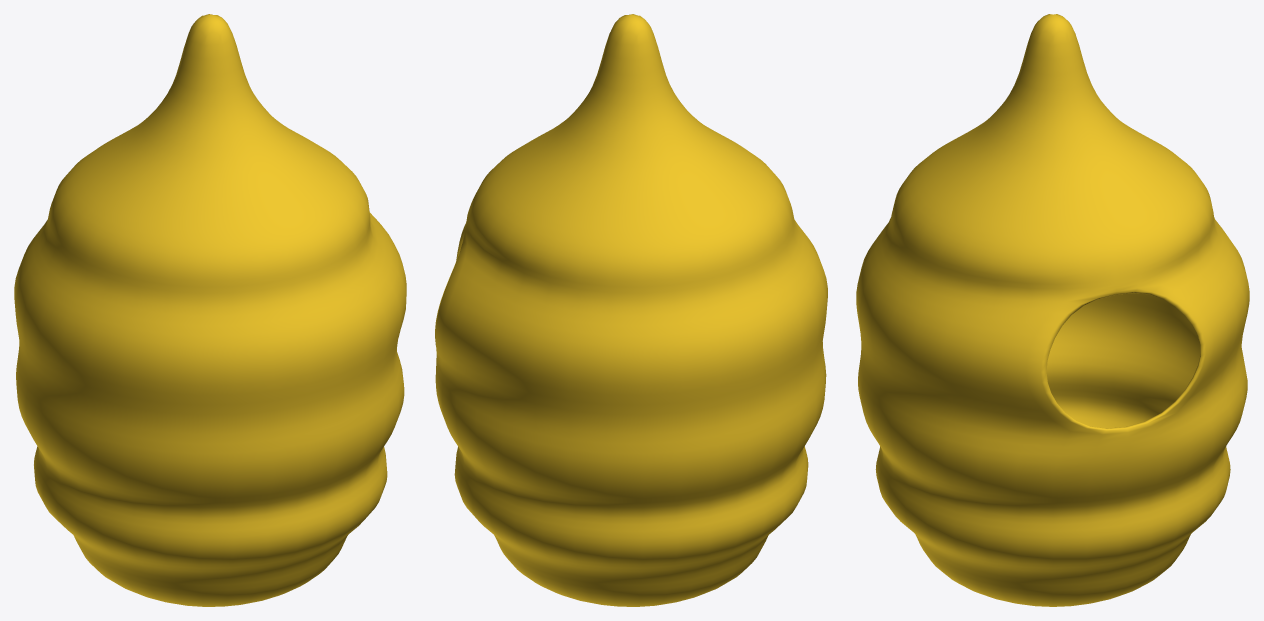
File: PdV_Model_Beehive_Color.fbx
The picture shows the model from 3 angles, left to right: view 1: azimuth 30°, elevation 25°; view 2: azimuth 150°, elevation 25°; view 3: azimuth 270°, elevation 25°; orthographic projection.
Parts seen in each view (by area): view 1: Hive; view 2: Hive; view 3: Hive.
Part boxes in pixels (bbox=[...]): Hive: bbox=[14, 14, 406, 606]; Hive: bbox=[435, 14, 827, 606]; Hive: bbox=[856, 14, 1249, 606].
Bounding box in the file's own units: 174 × 170 × 271.
